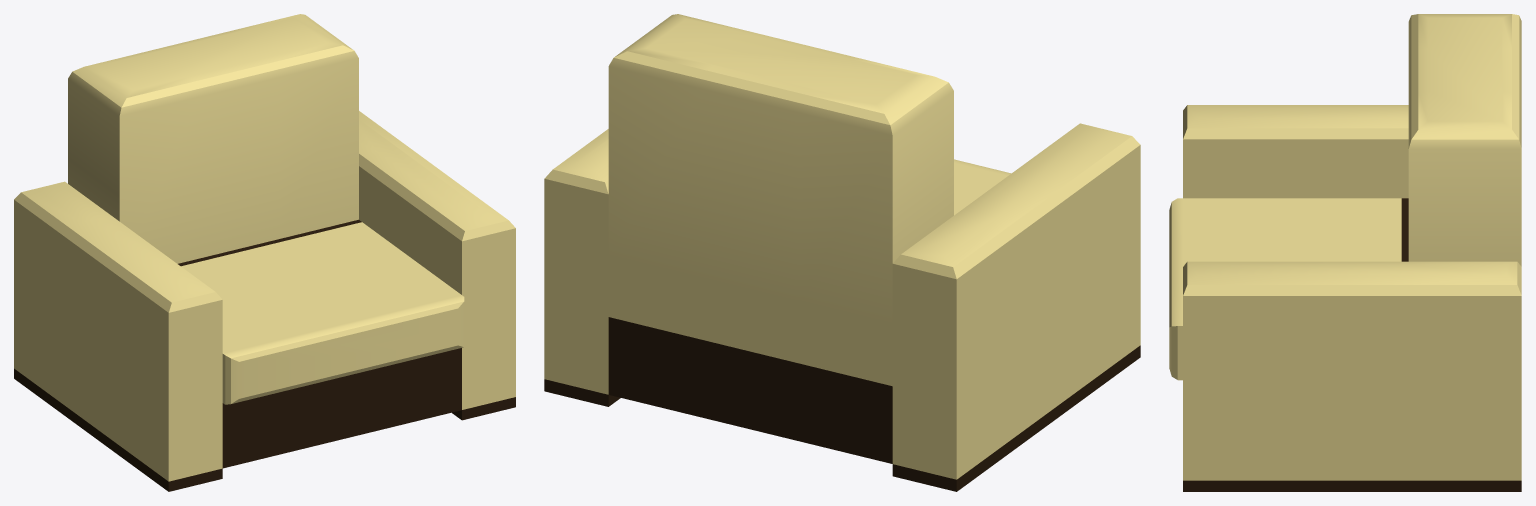
File: sofa1.fbx
3 views of the same model, side by side, from view 1: azimuth 30°, elevation 25°; view 2: azimuth 150°, elevation 25°; view 3: azimuth 270°, elevation 25° (orthographic). The views are drawn at different scales.
Visible parts, largest first — view 1: Cube.063; view 2: Cube.063; view 3: Cube.063.
Part boxes in pixels (x1,y1,x2,y2): Cube.063: (14,14,515,491); Cube.063: (544,14,1140,491); Cube.063: (1169,14,1521,491).
Bounding box in the file's own units: 135 × 112 × 108.
